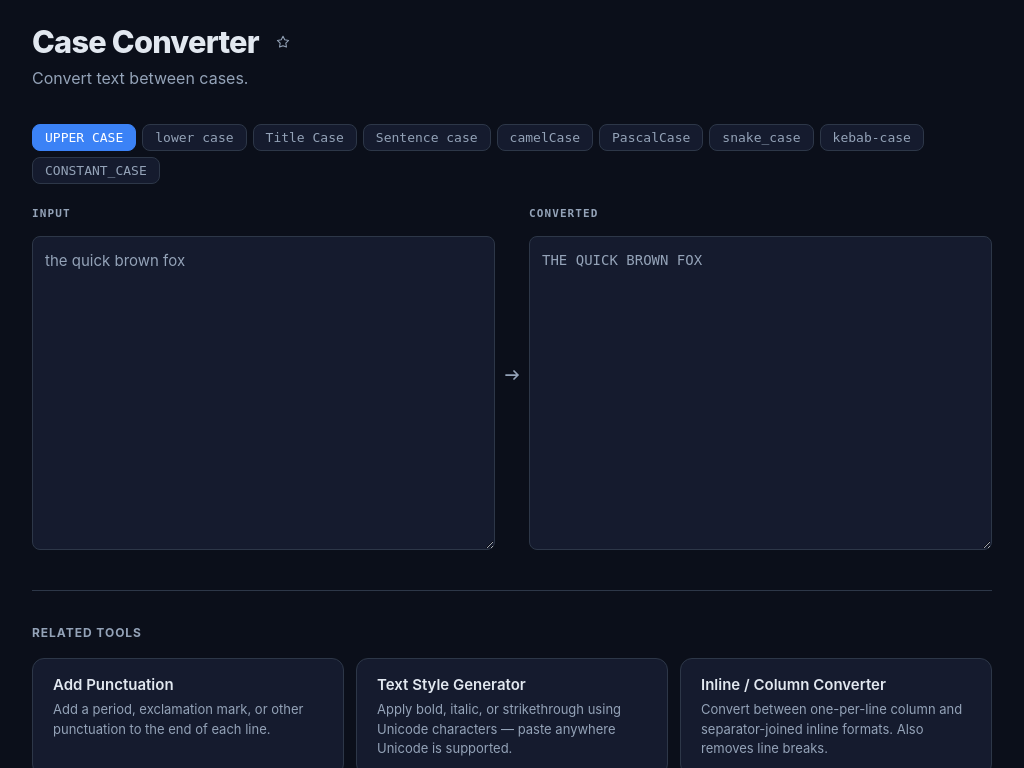
Scenario: CaseConverter › converts to lowercase when selected
Click the button "lower case" at (194, 137), box [142,124,247,151]
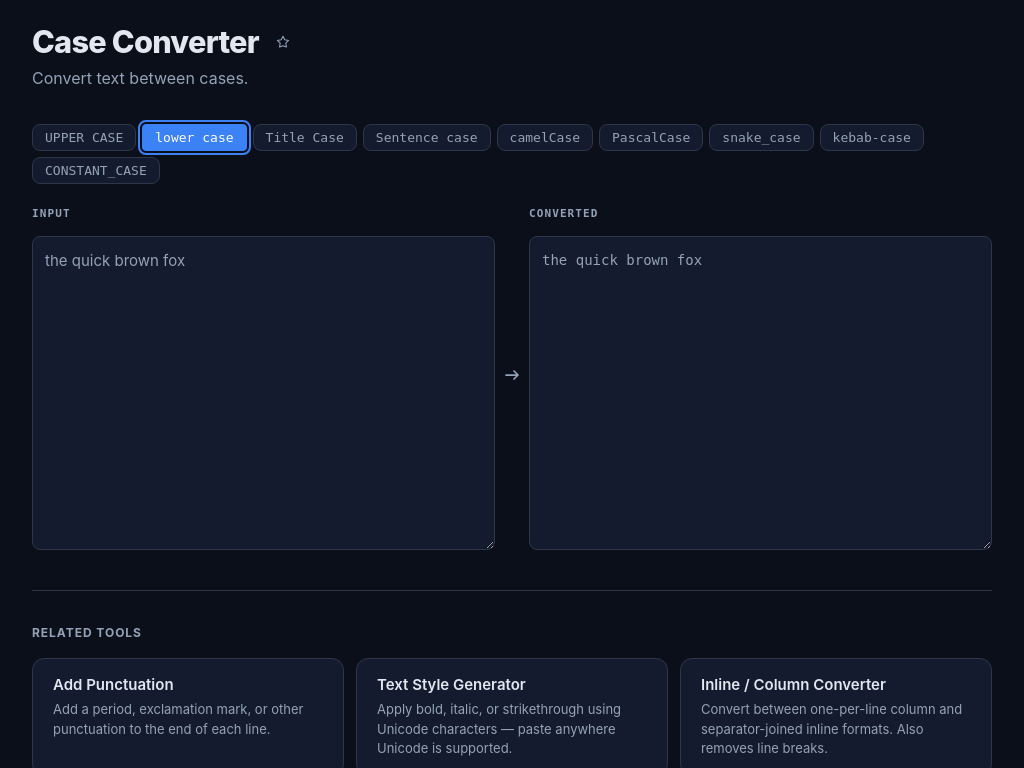
Type "HELLO" into the text box named "input" at (264, 393), box [32,236,495,550]
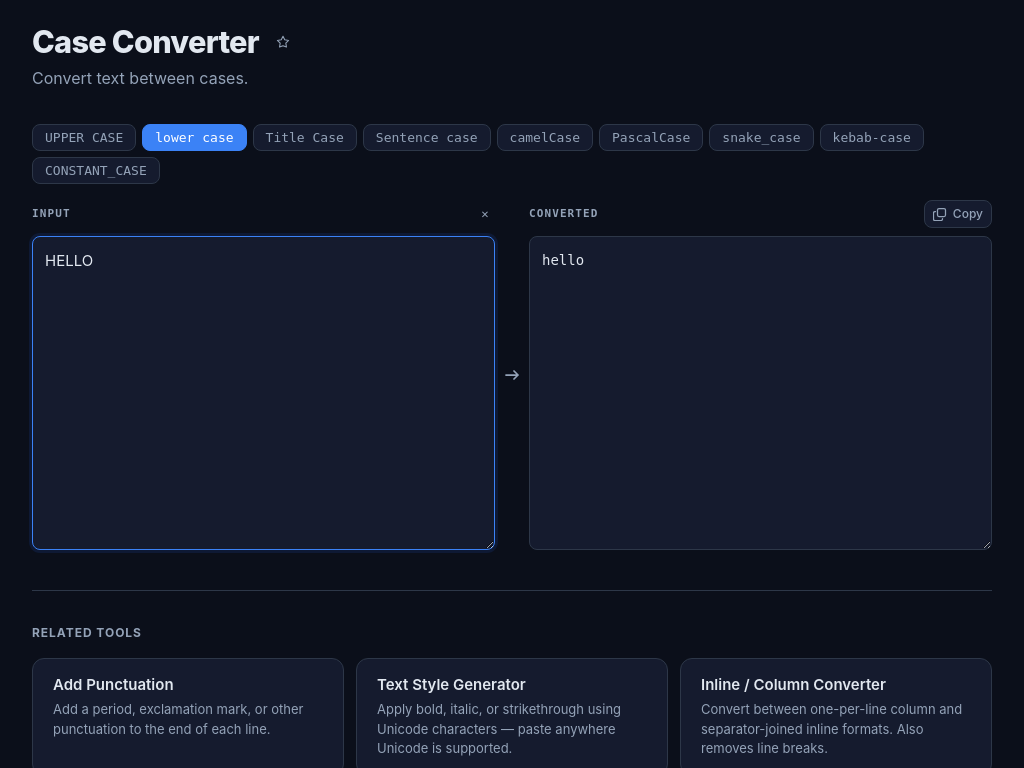
Expected: the text box named "converted" holds "hello", [529,236,992,550]
